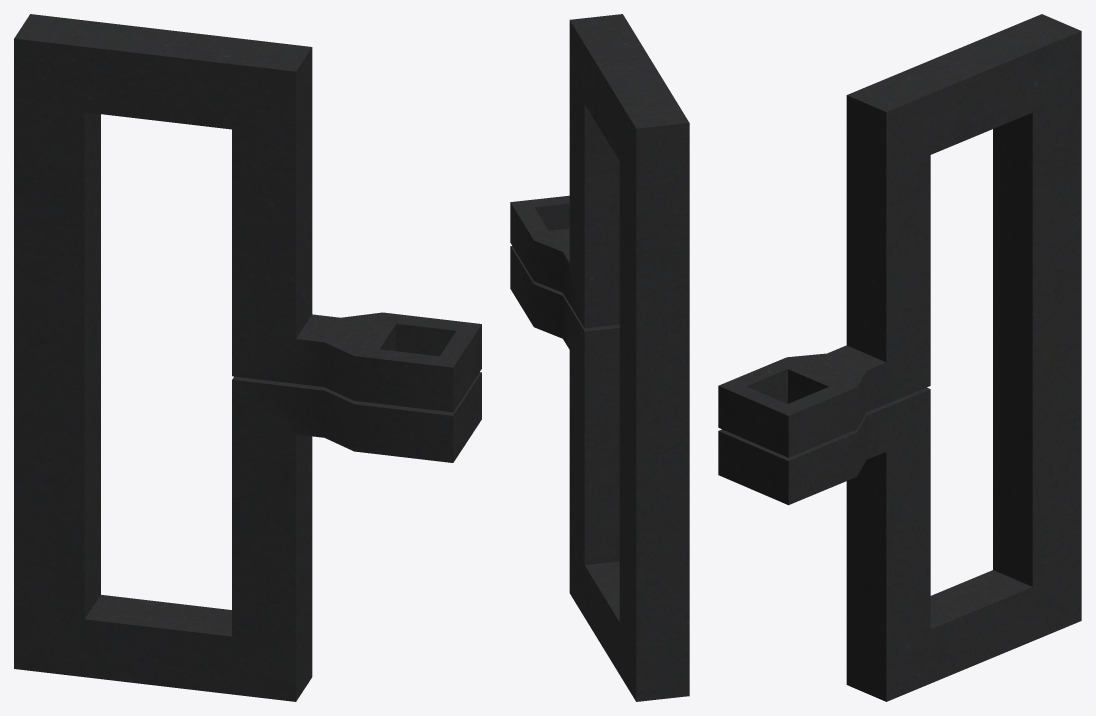
Rendered from Small_Sling_Swivel.dae.
3 views of the same model, side by side, from view 1: azimuth 30°, elevation 25°; view 2: azimuth 150°, elevation 25°; view 3: azimuth 270°, elevation 25° (orthographic). The views are drawn at different scales.
Parts seen in each view (by area): view 1: Small_Sling_Swivel; view 2: Small_Sling_Swivel; view 3: Small_Sling_Swivel.
Boxes of the visible parts, box(x1,y1,x2,y2) form: Small_Sling_Swivel: box(14, 14, 481, 701); Small_Sling_Swivel: box(510, 14, 689, 701); Small_Sling_Swivel: box(718, 14, 1081, 701).
Size of the model in its own units: 0.0224 by 0.0227 by 0.0406.
Materials: 1 (1 with a texture image).
